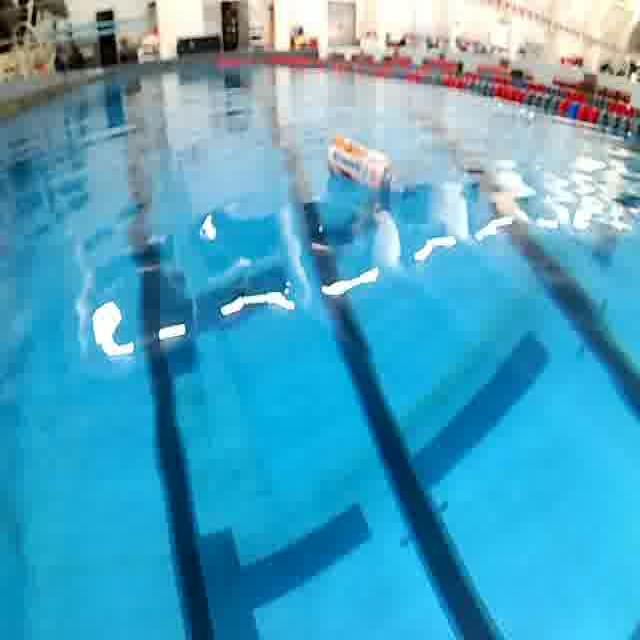Bottle: (322, 125, 412, 208)
